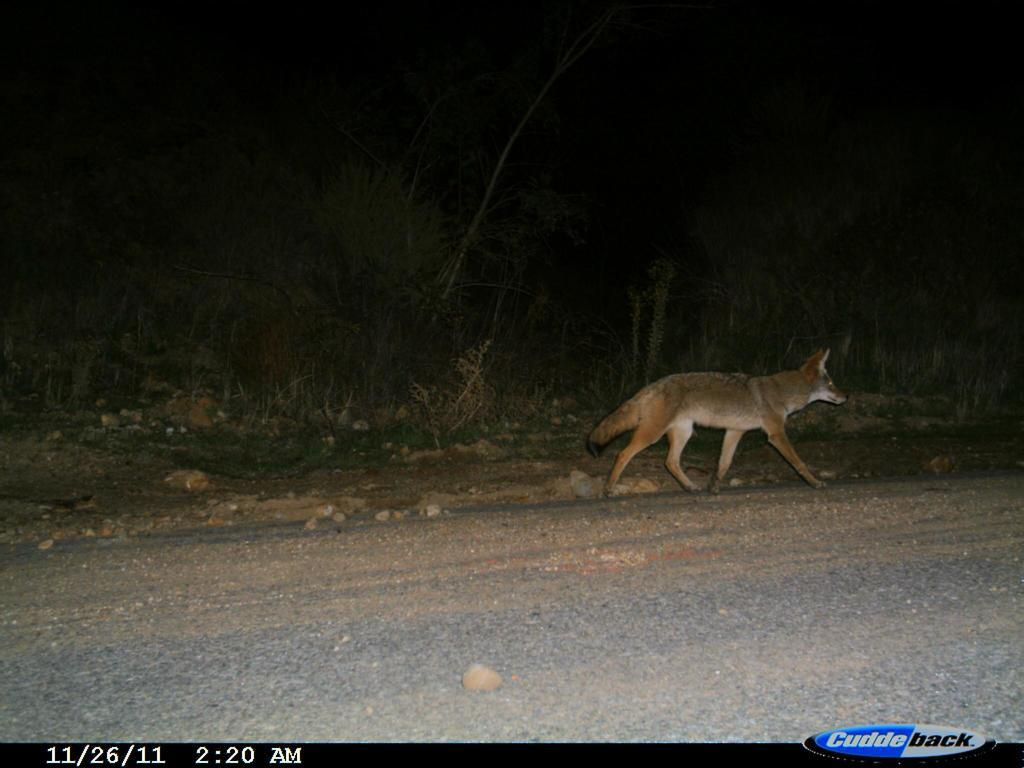coyote: (578, 322, 881, 518)
